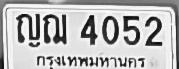0: (101, 15, 119, 45)
2: (144, 16, 162, 46)
4: (81, 14, 97, 45)
5: (122, 15, 140, 45)
A12: (42, 12, 67, 44)
A13: (15, 12, 41, 48)
BKK: (36, 54, 145, 69)
